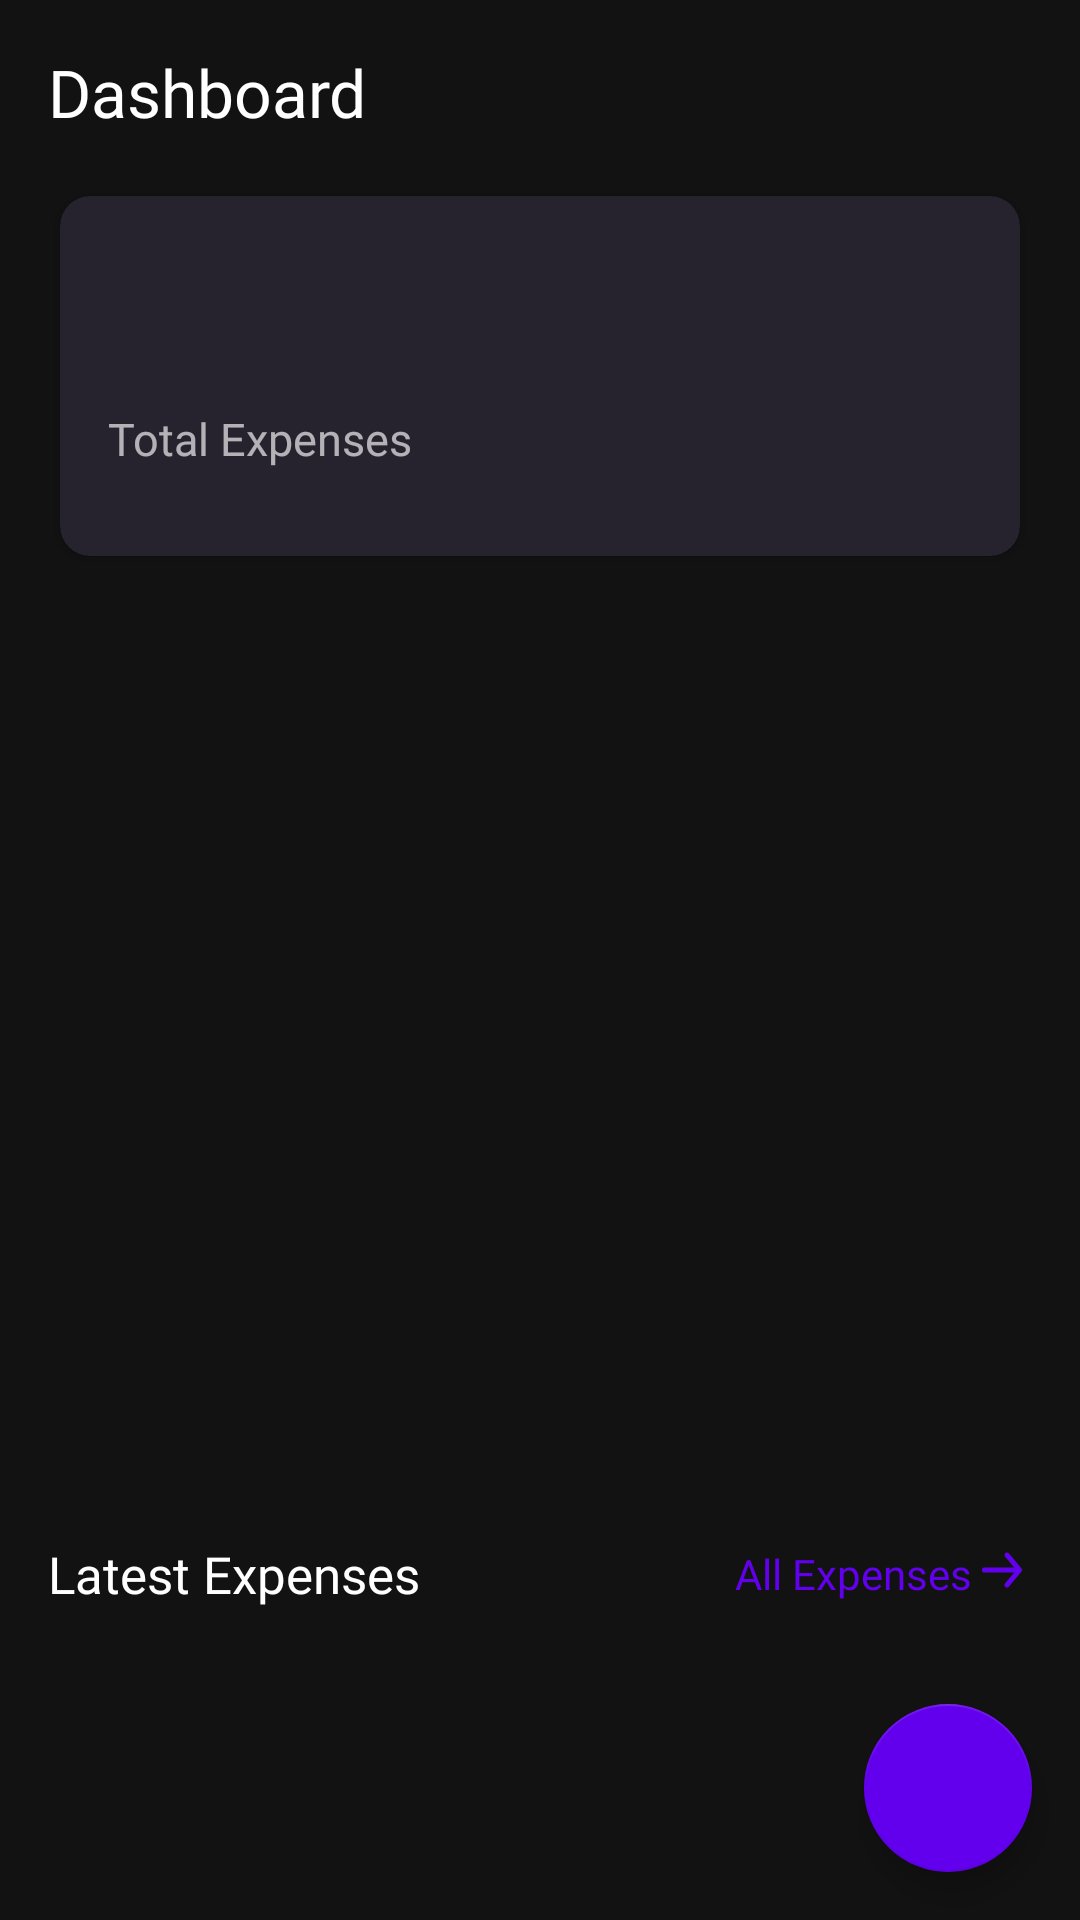

Where to tap for icons on this 1080 × 1920 app screen, as (x,y):
forward arrow: (1002,1570)
